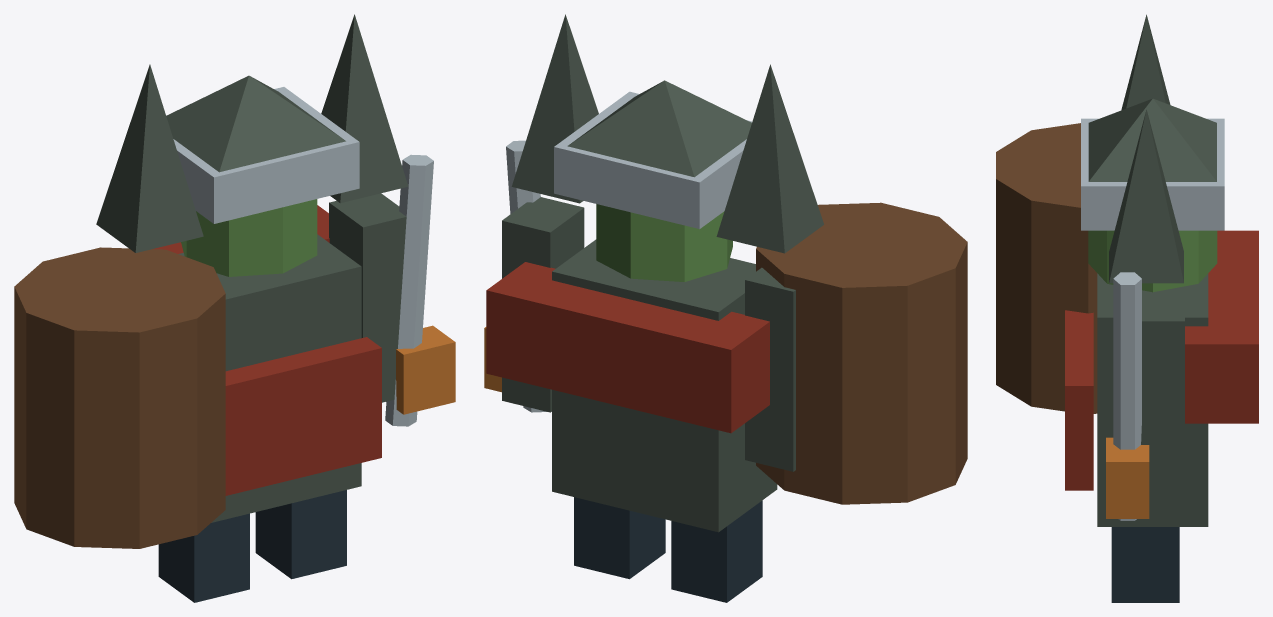
Rendered from infantry.obj.
3 views of the same model, side by side, from view 1: azimuth 30°, elevation 25°; view 2: azimuth 150°, elevation 25°; view 3: azimuth 270°, elevation 25° (orthographic). The views are drawn at different scales.
Parts seen in each view (by area): view 1: infantry; view 2: infantry; view 3: infantry.
Part boxes in pixels (left/top/right/bottom): infantry: left=14, top=14, right=455, bottom=602; infantry: left=484, top=14, right=967, bottom=602; infantry: left=996, top=14, right=1258, bottom=602.
Bounding box in the file's own units: 1.54 × 1.79 × 0.8423.
